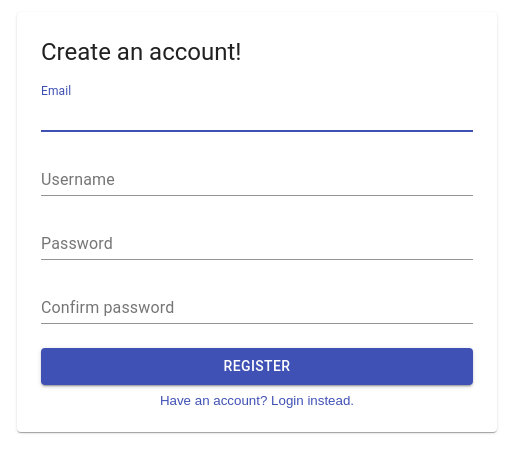
it: RegisterPage test › should render error on submitting empty form
This screenshot has width=515, height=451.
Click the button "Register".
click(257, 366)  # box [41,348,473,384]
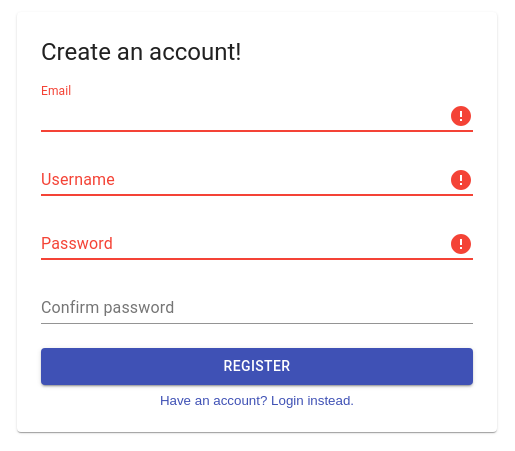
Result: the icon with test id "email-error-icon" is shown at [449,104,473,128]
Result: the icon with test id "username-error-icon" is shown at [449,168,473,192]
Result: the icon with test id "password-error-icon" is shown at [449,232,473,256]
